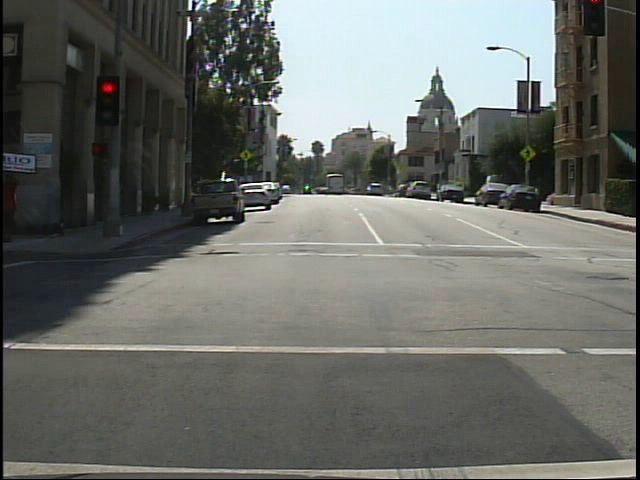person: (3, 160, 25, 245)
